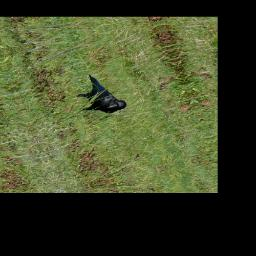Crow: (65, 68, 128, 120)
